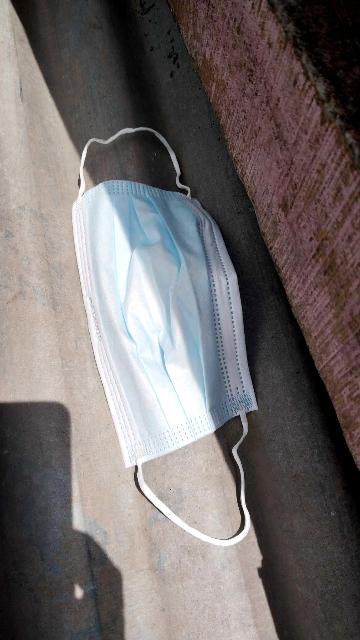mask: (51, 106, 294, 595)
